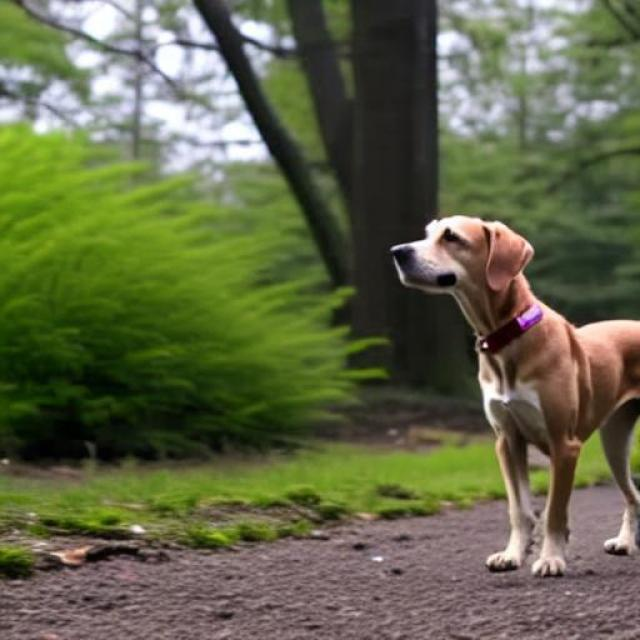Dog: (391, 215, 640, 579)
